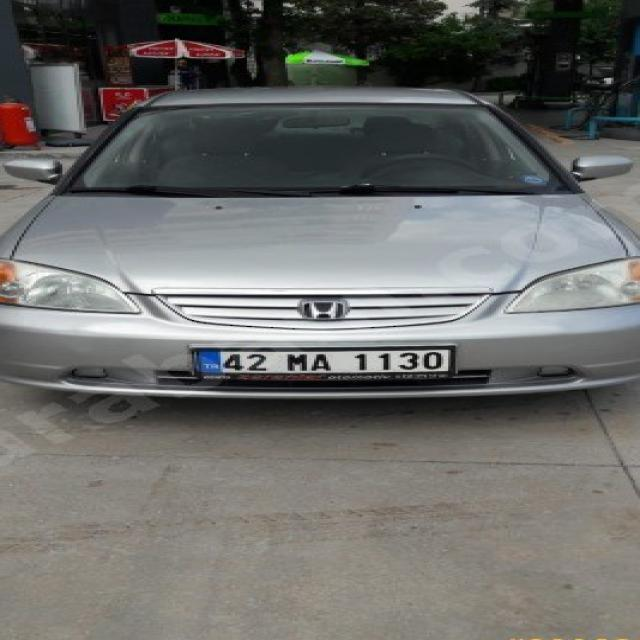license_plate: (192, 348, 455, 374)
